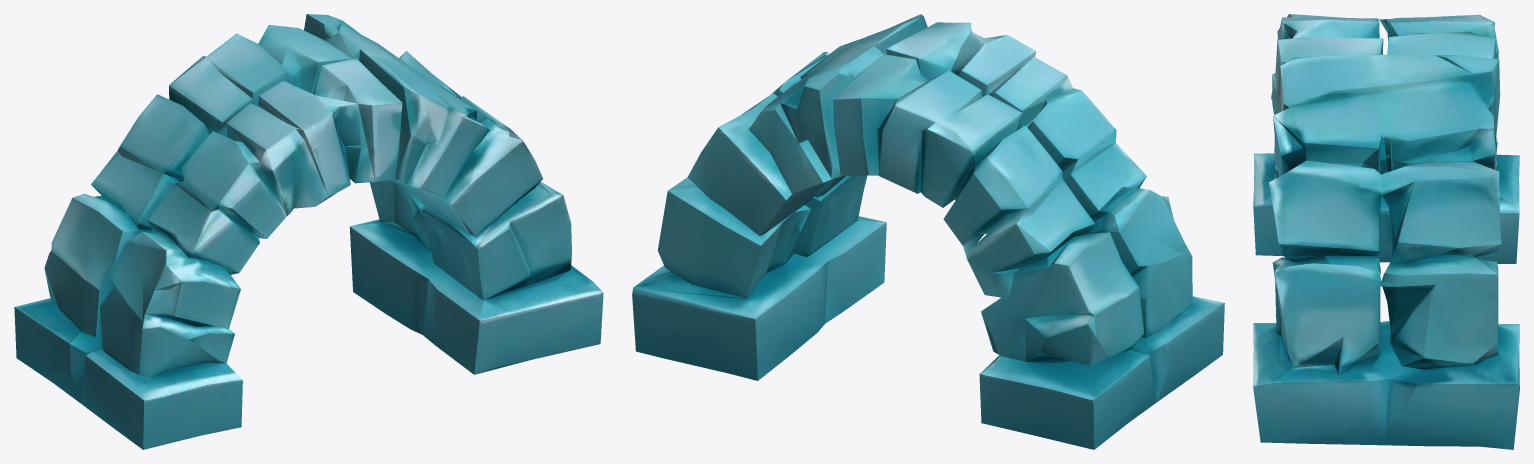
File: iceArch.glb
The picture shows the model from 3 angles, left to right: view 1: azimuth 30°, elevation 25°; view 2: azimuth 150°, elevation 25°; view 3: azimuth 270°, elevation 25°; orthographic projection. The views are drawn at different scales.
Parts seen in each view (by area): view 1: model; view 2: model; view 3: model.
Boxes of the visible parts, <box> form: model: <box>14,14,603,449</box>; model: <box>632,14,1224,449</box>; model: <box>1253,14,1519,449</box>.
Size of the model in its own units: 1.9 by 1.19 by 0.9293.
Materials: 1 (1 with a texture image).
